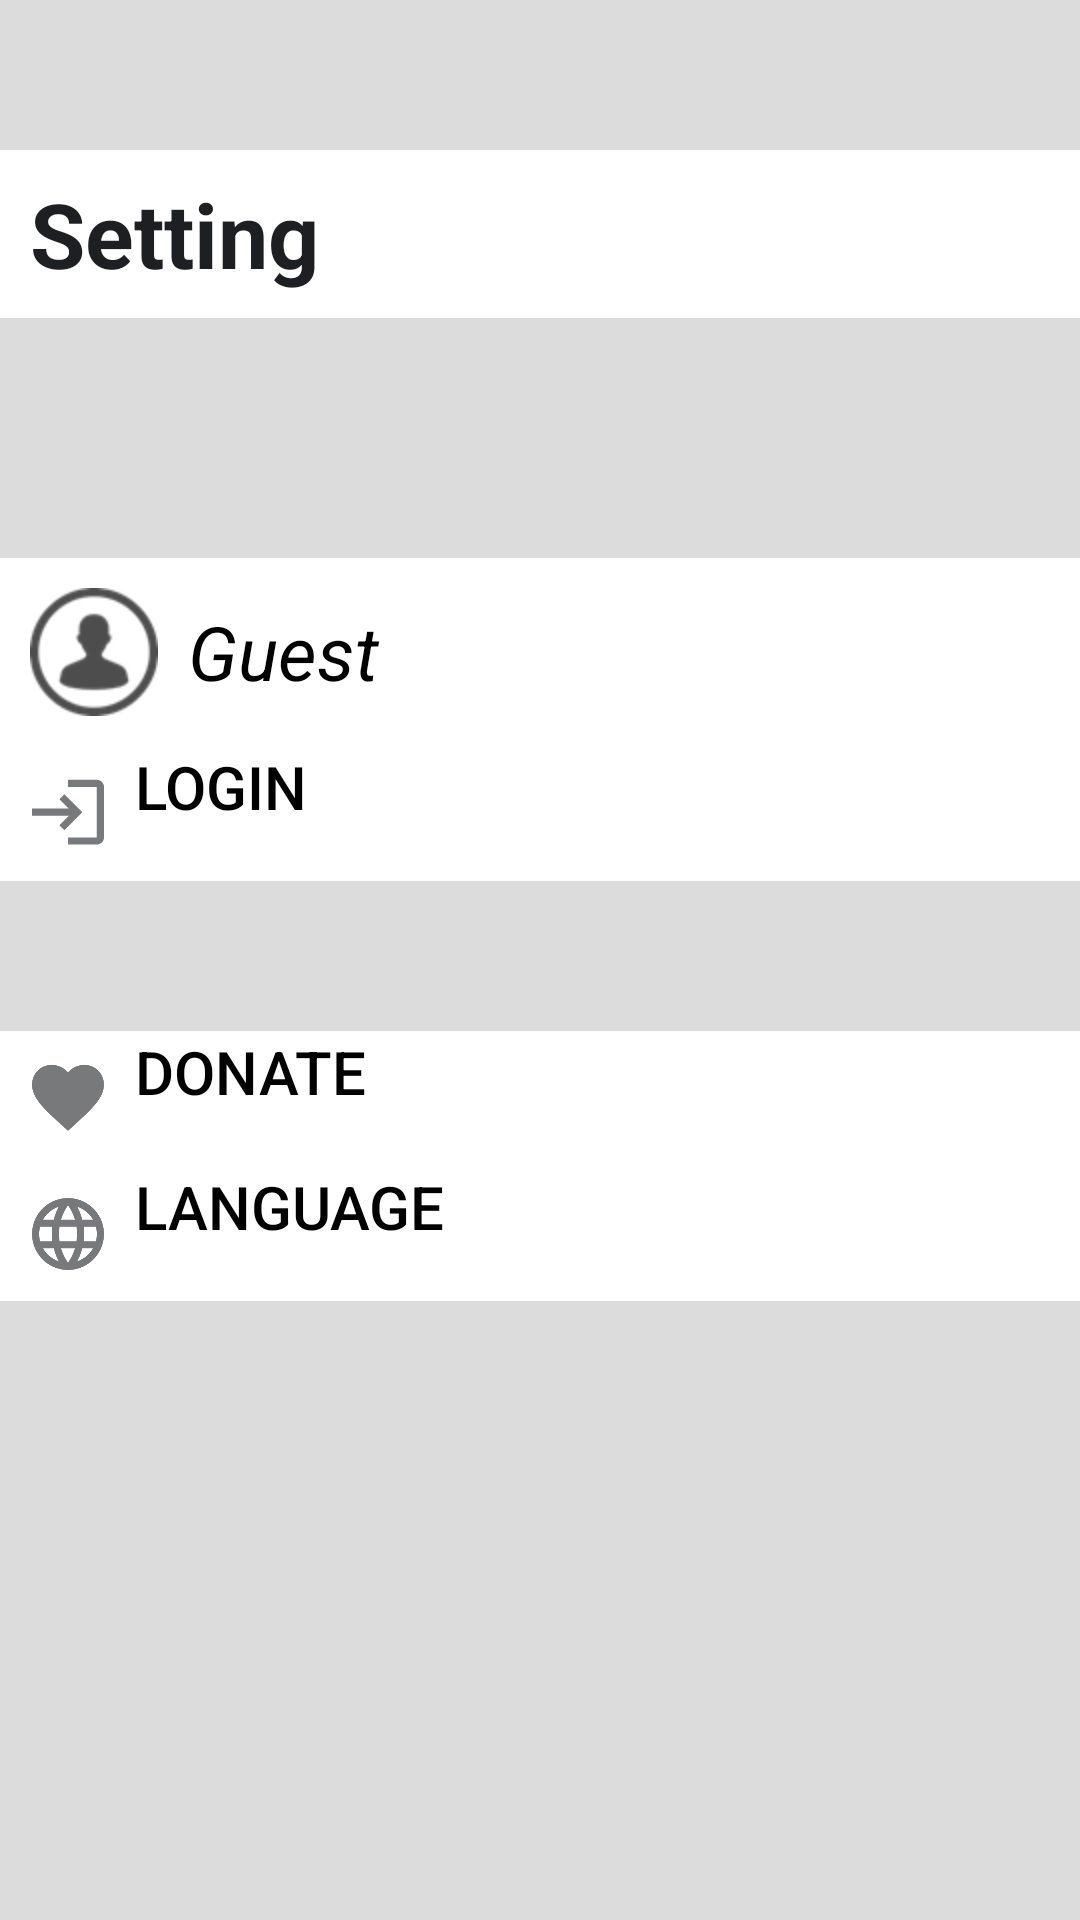

Where to tap for icons on this 1080*1920 app screen, as (x=x, y=y):
user: (x=94, y=652)
